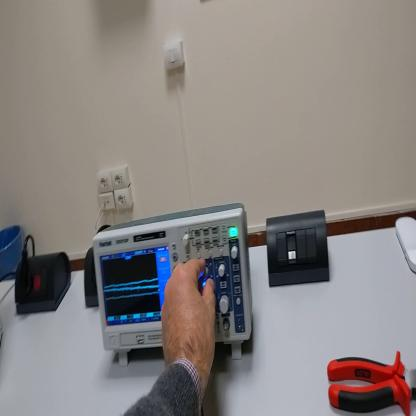hand: (161, 257, 218, 384)
oscilloscope: (95, 204, 254, 366)
pliers: (328, 343, 416, 415)
socket: (13, 249, 72, 316), (83, 249, 99, 310)
